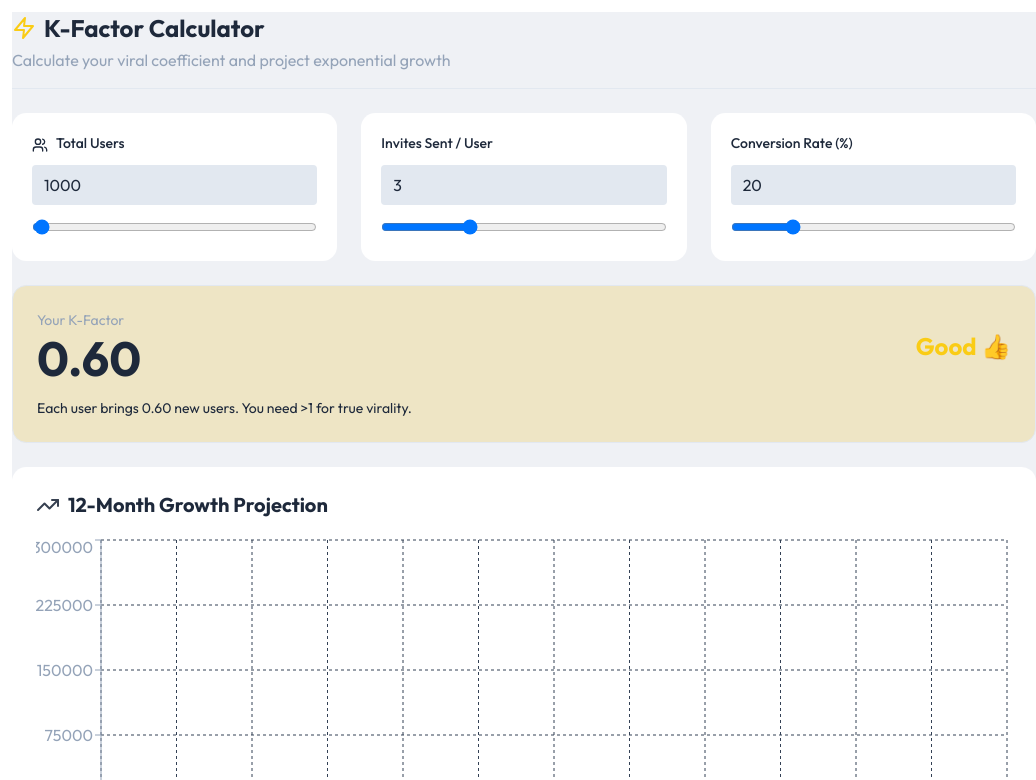
it: KFactorCalculator › shows "Viral!" status when K >= 1
Replace the text in the number field below "Invites Sent / User" with "5": (524, 185) [381,165,667,205]
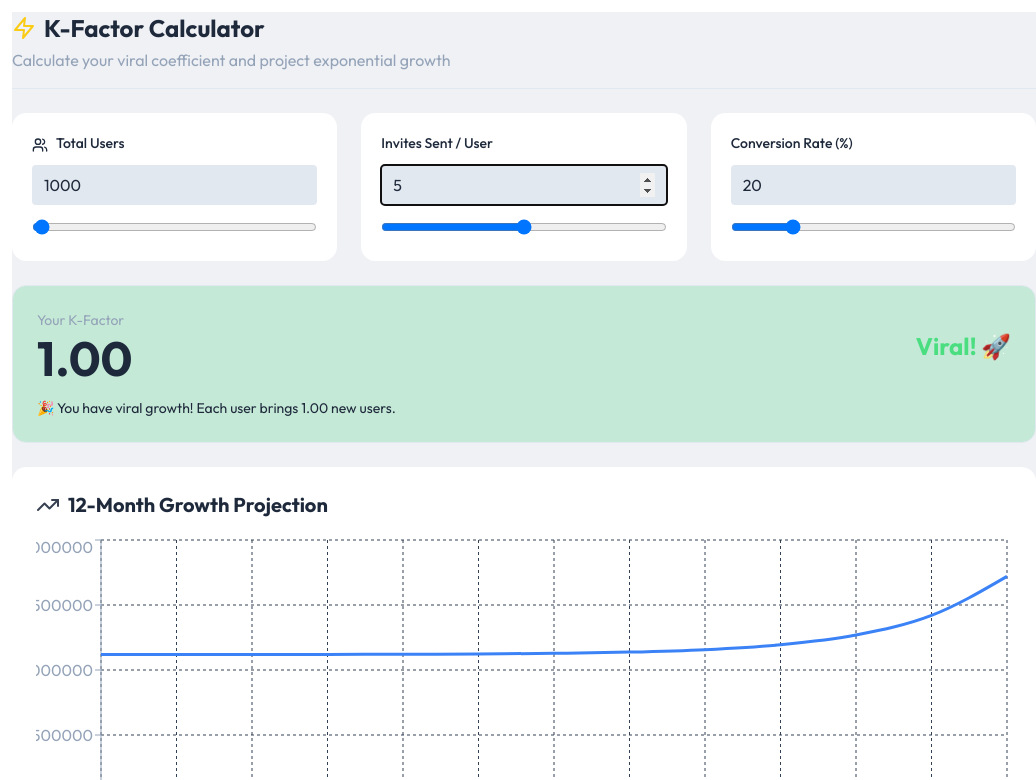
Now the text "Viral! 🚀" is shown, box [916,330,1011,362]
